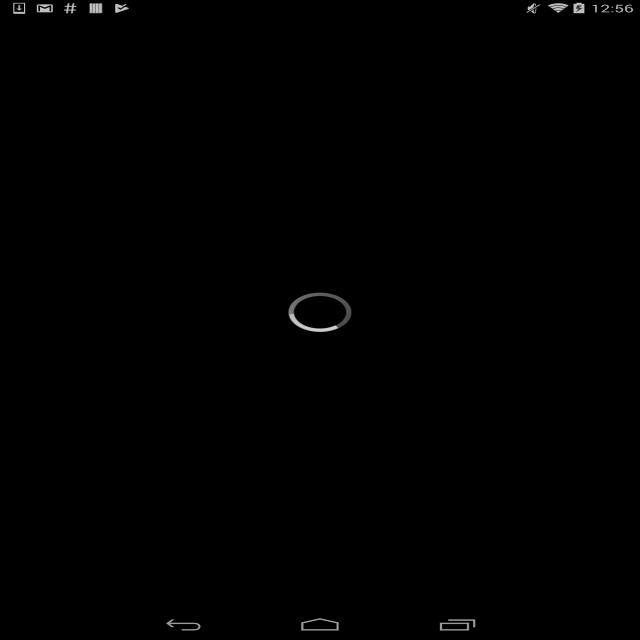Button: (226, 269, 414, 288)
EditText: (17, 213, 623, 241)
ImageView: (0, 17, 640, 163), (256, 70, 384, 97)
ProgressBar: (280, 287, 360, 338)
TextView: (198, 117, 442, 143), (580, 38, 632, 70), (131, 173, 189, 186), (456, 173, 504, 186), (312, 250, 327, 260)
